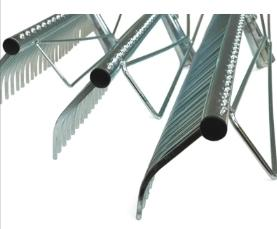RATEAU: (0, 12, 277, 180)
